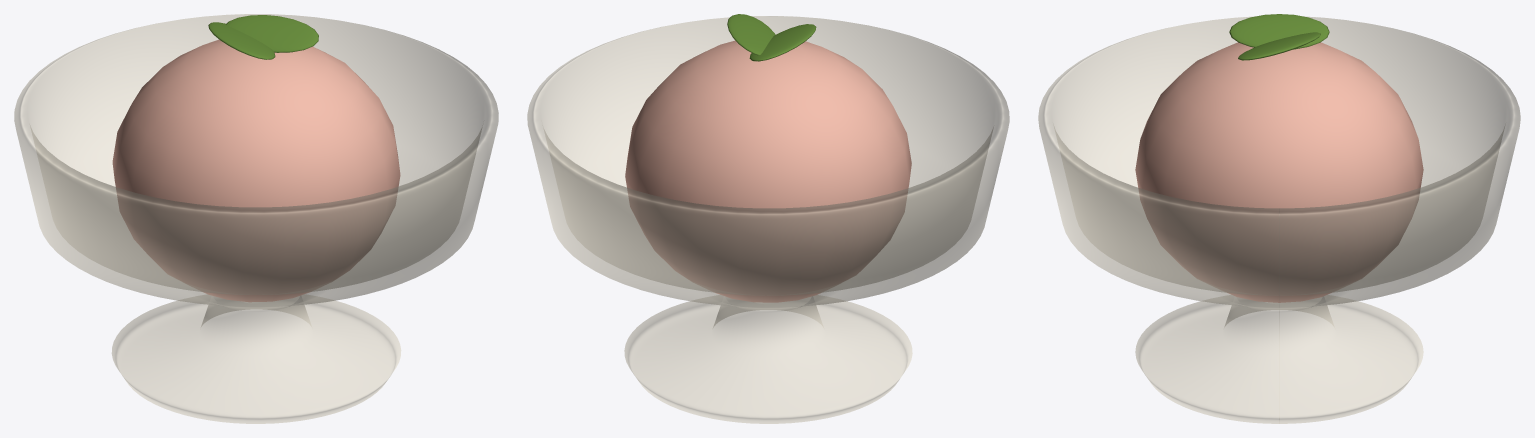
File: 48-peach-jelly.glb
3 views of the same model, side by side, from view 1: azimuth 30°, elevation 25°; view 2: azimuth 150°, elevation 25°; view 3: azimuth 270°, elevation 25° (orthographic).
Visible parts, largest first — view 1: 복숭아 젤리; view 2: 복숭아 젤리; view 3: 복숭아 젤리.
Boxes of the visible parts, bbox=[...] form: 복숭아 젤리: bbox=[14, 14, 498, 423]; 복숭아 젤리: bbox=[527, 14, 1009, 423]; 복숭아 젤리: bbox=[1038, 14, 1520, 423].
Bounding box in the file's own units: 1.44 × 1.11 × 1.44.
